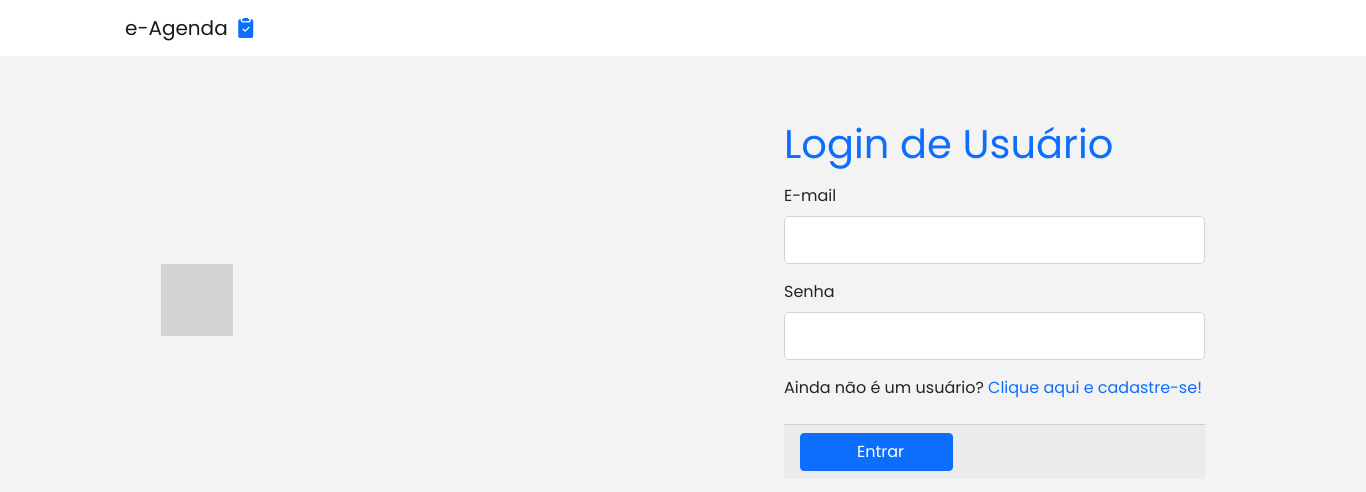
Processo de login do usuario › Deve notificar sobre formulario invalido
The width and height of the screenshot is (1366, 492).
In the field named "email": (995, 240) [784, 216, 1205, 264], type "name"
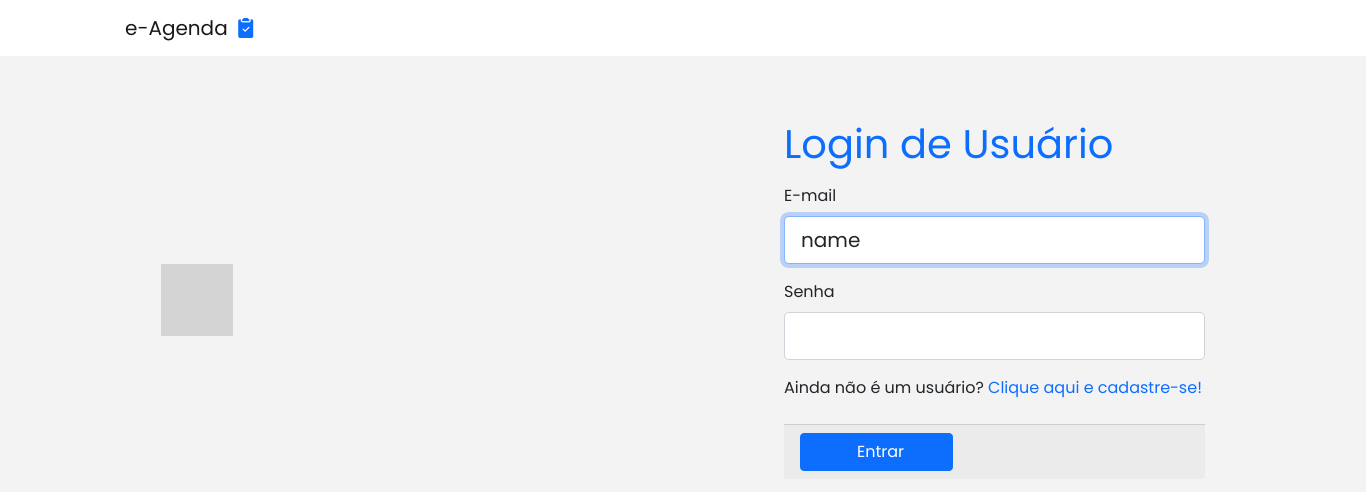
In the password field named "senha": (995, 336) [784, 312, 1205, 360], type "Teste@123"
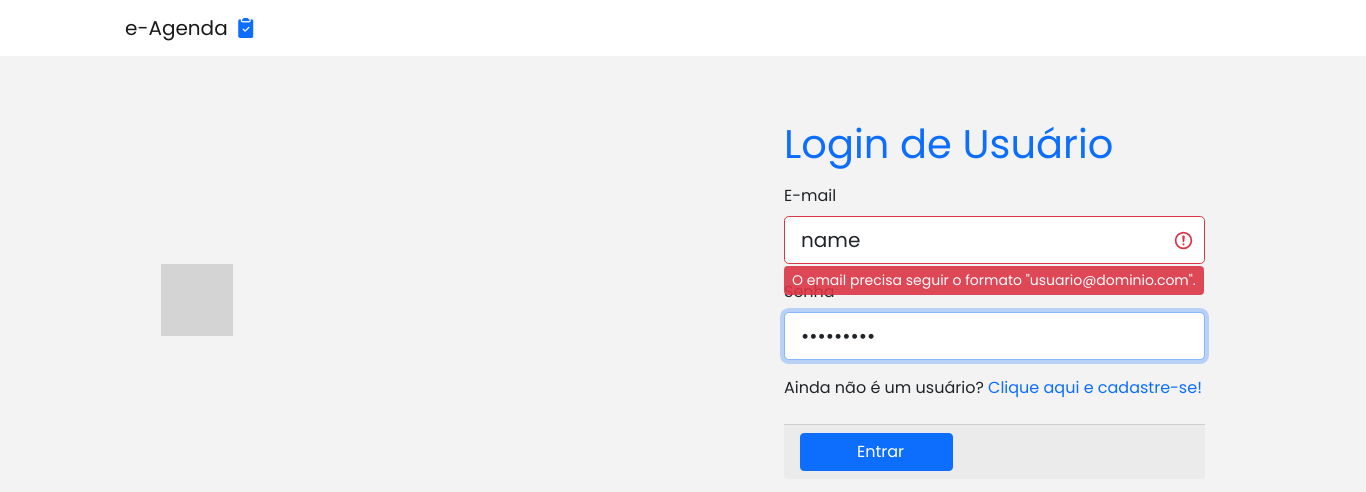
Click the submit button: (877, 452) [800, 433, 953, 471]
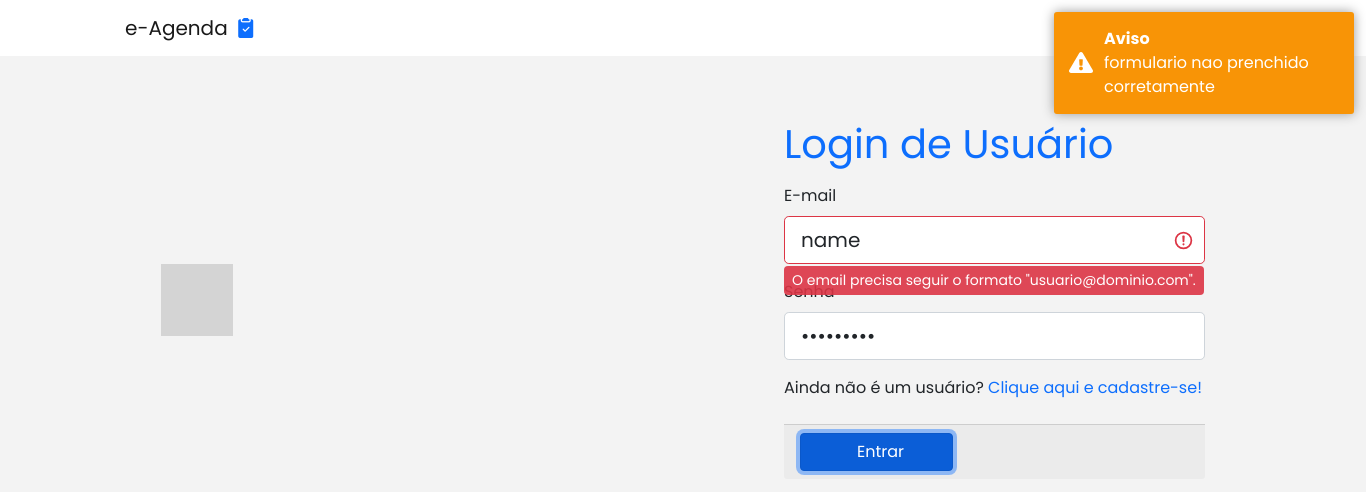
Expected: the text "formulario nao prenchido corretamente" is shown, [1104, 51, 1339, 99]
